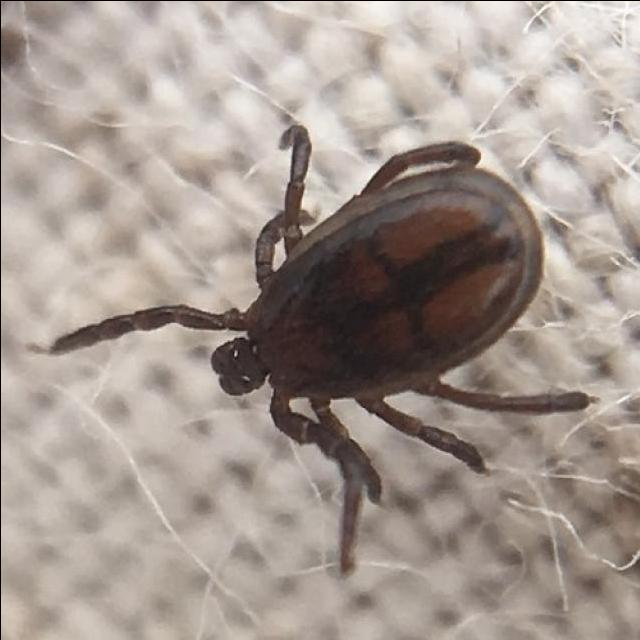Ixodes Ricinus-M: (49, 121, 595, 577)
